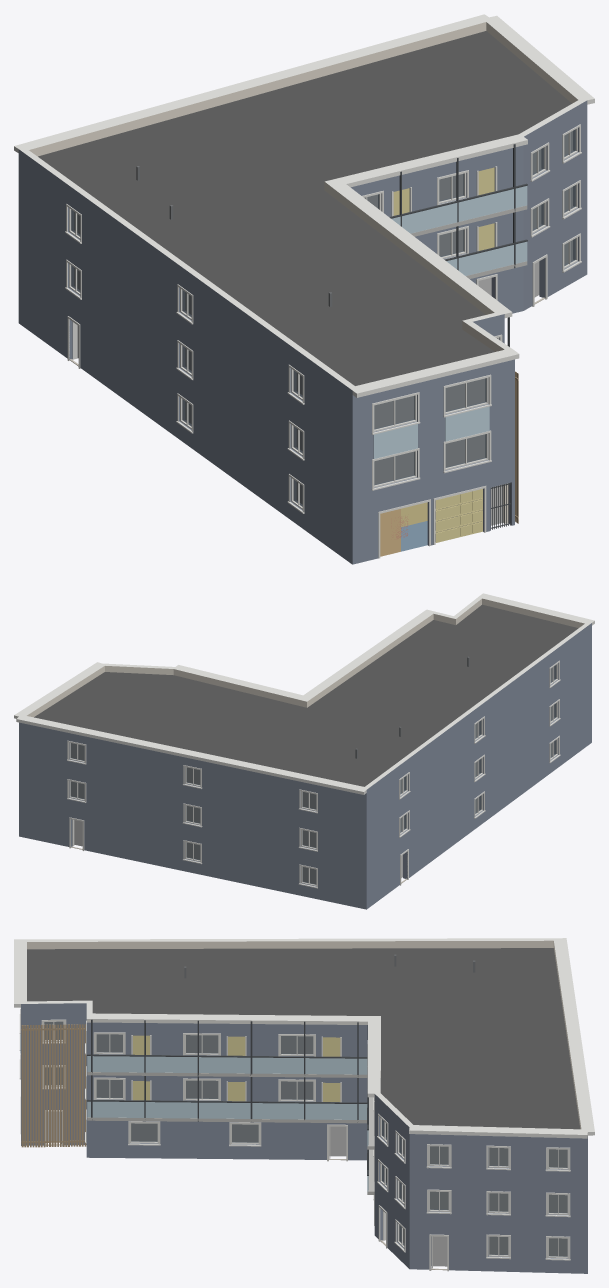
The model's file is exterior.glb.
3 views of the same model, one above another, from view 1: azimuth 30°, elevation 25°; view 2: azimuth 150°, elevation 25°; view 3: azimuth 270°, elevation 25° (orthographic). The views are drawn at different scales.
Parts seen in each view (by area): view 1: shell, roof, trim, glazing, doors, shadow-proxy, gallery, frames; view 2: shell, roof, glazing, trim, shadow-proxy, frames; view 3: roof, shell, gallery, shadow-proxy, glazing, fence, trim, frames, doors.
Part boxes in pixels (x1,y1,x2,y2): shell: (18, 17, 587, 564); roof: (14, 14, 594, 397); trim: (65, 124, 581, 513); glazing: (71, 129, 575, 506); doors: (69, 167, 545, 558); shadow-proxy: (74, 131, 572, 525); gallery: (389, 144, 527, 346); frames: (69, 128, 577, 509); shell: (19, 595, 591, 909); roof: (14, 593, 594, 794); glazing: (70, 665, 556, 884); trim: (67, 660, 560, 888); shadow-proxy: (71, 668, 551, 883); frames: (69, 663, 558, 886); roof: (14, 938, 594, 1138); shell: (21, 938, 587, 1273); gallery: (87, 1019, 374, 1194); shadow-proxy: (44, 1022, 567, 1266); glazing: (44, 1021, 567, 1256); fence: (21, 1024, 86, 1147); trim: (19, 1007, 570, 1271); frames: (43, 1021, 568, 1258); doors: (20, 1035, 447, 1270).
Bounding box in the file's own units: 26.32 × 9.1 × 32.74.
